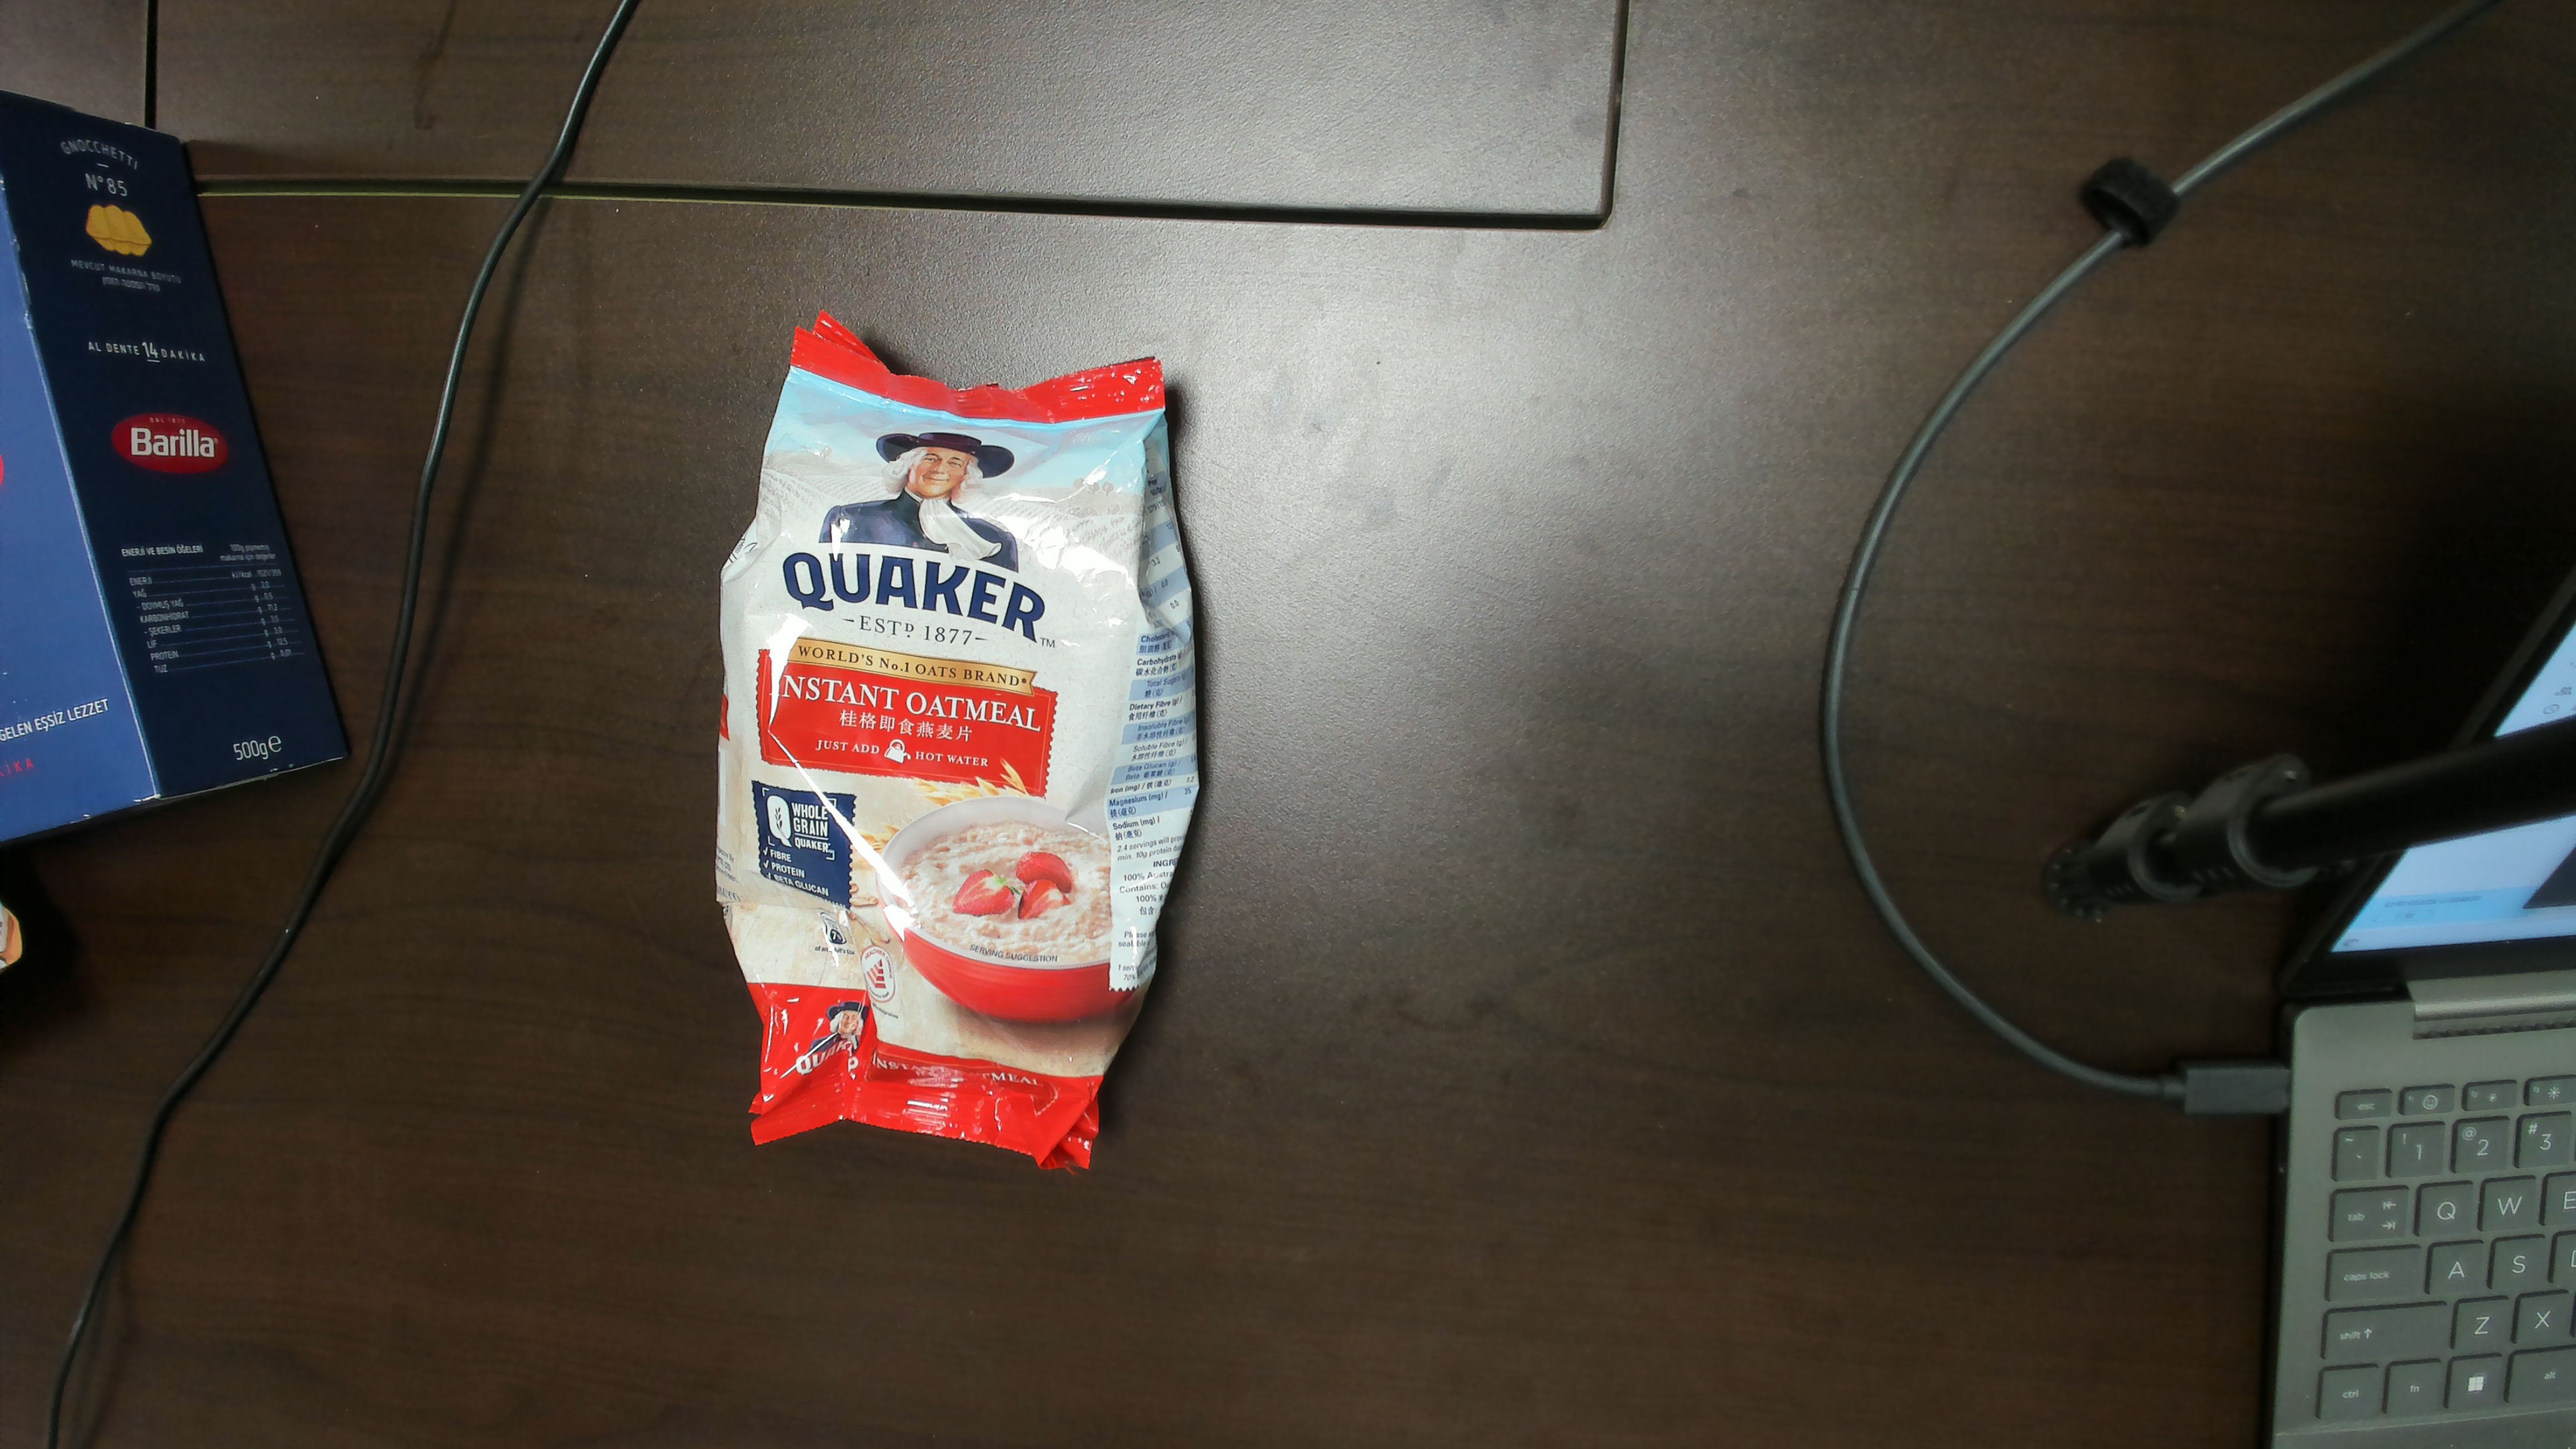RolledOatsInstantOatmeal_400-499g_Halal_Healthy: (740, 416, 1182, 1143)
